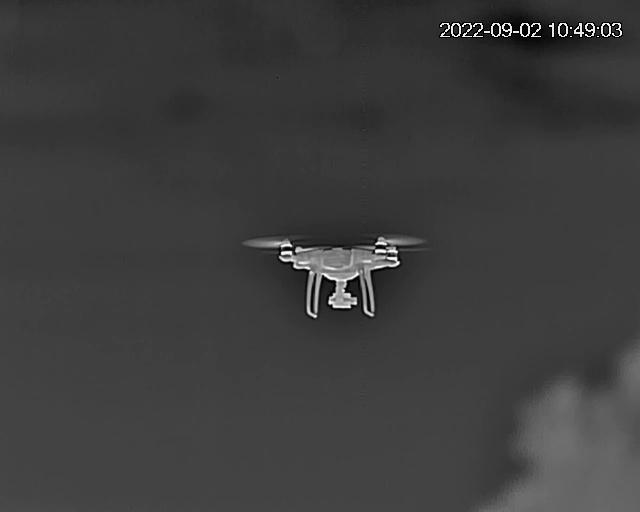DJI-Phantom: (239, 230, 433, 319)
